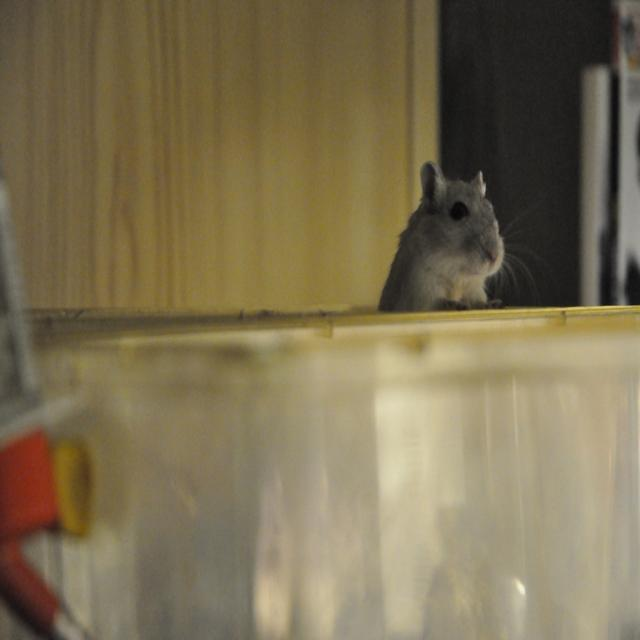rat: (378, 159, 526, 315)
